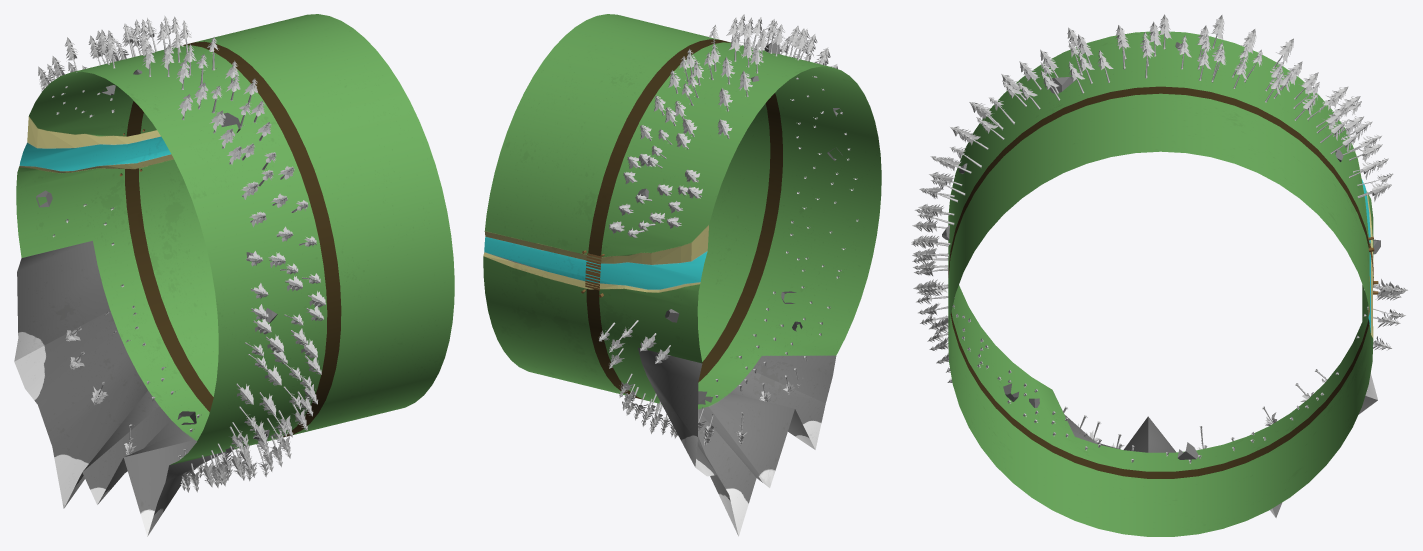
File: SM_LEVEL_04.FBX
3 views of the same model, side by side, from view 1: azimuth 30°, elevation 25°; view 2: azimuth 150°, elevation 25°; view 3: azimuth 270°, elevation 25° (orthographic). The views are drawn at different scales.
Parts seen in each view (by area): view 1: Tube001, Object173; view 2: Tube001, Object173; view 3: Tube001, Object173.
Boxes of the visible parts, x1,y1,x2,y2 form: Tube001: (14, 14, 454, 536); Object173: (125, 41, 341, 437); Tube001: (483, 14, 881, 536); Object173: (586, 39, 782, 399); Tube001: (942, 31, 1380, 536); Object173: (948, 86, 1369, 478).
Bounding box in the file's own units: 878 × 1761 × 1523.
